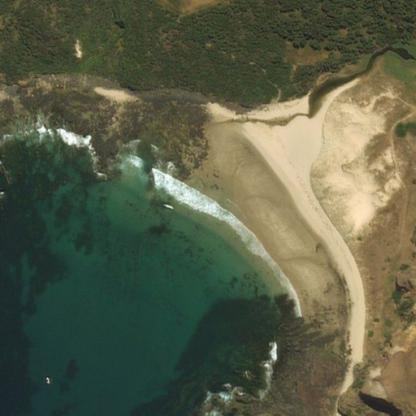ship: (44, 376, 48, 384)
